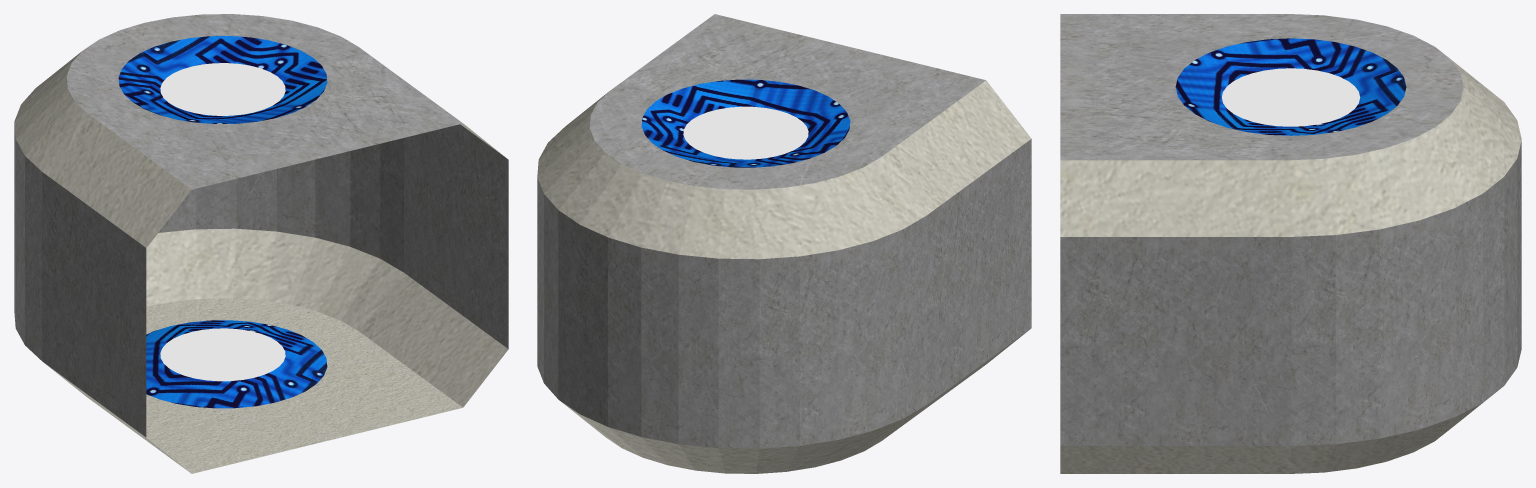
The model's file is transporter.fbx.
3 views of the same model, side by side, from view 1: azimuth 30°, elevation 25°; view 2: azimuth 150°, elevation 25°; view 3: azimuth 270°, elevation 25° (orthographic). The views are drawn at different scales.
Visible parts, largest first — view 1: transporter2.001; view 2: transporter2.001; view 3: transporter2.001.
Boxes of the visible parts, x1=… form: transporter2.001: x1=14, y1=14, x2=508, y2=473; transporter2.001: x1=537, y1=14, x2=1031, y2=473; transporter2.001: x1=1060, y1=14, x2=1521, y2=473.
Bounding box in the file's own units: 4 × 3 × 4.
